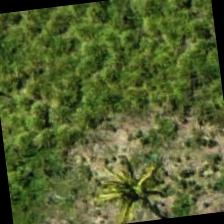Kelapa_Sawit: (87, 138, 187, 223)
